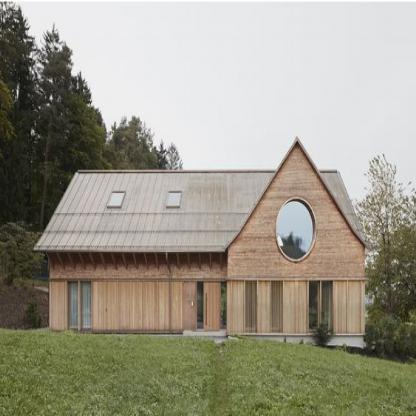Building Outline: (33, 136, 372, 348)
Door: (203, 282, 221, 331)
Facade: (32, 136, 372, 350)
Glass Wall: (309, 282, 318, 329), (322, 282, 330, 329)
Roof: (33, 136, 372, 253)
Window: (244, 281, 257, 333), (270, 281, 283, 333), (81, 282, 91, 328), (70, 282, 79, 328), (197, 282, 203, 328), (221, 282, 226, 328), (108, 193, 125, 205), (167, 193, 181, 205)
